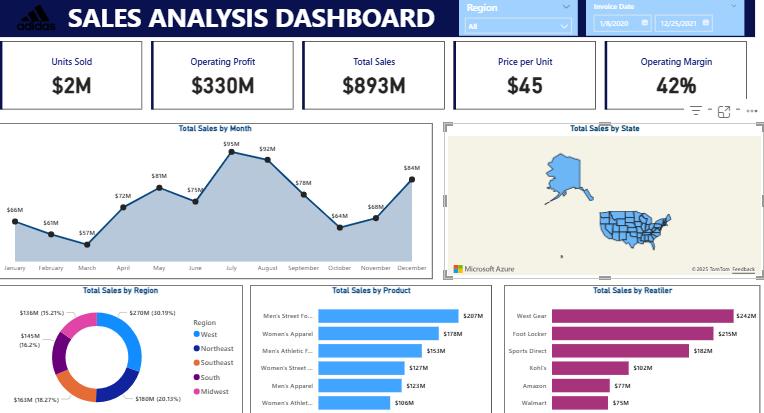

The dashboard page shown, as its layout file describes it:
{"tool":"powerbi","page":{"name":"Page 1","canvas":[1280,720],"ordinal":0},"visuals":[{"type":"shape","box":[0,0,1265,70],"z":0},{"type":"textbox","box":[113.8,0,526.2,70],"z":1000},{"type":"cardVisual","fields":{"Data":["Sum(Data Sales Adidas.Units Sold)","Sum(Data Sales Adidas.Operating Profit)","Sum(Data Sales Adidas.Total Sales)","Avg(Data Sales Adidas.Price per Unit)","Avg(Data Sales Adidas.Operating Margin)"]},"box":[0,70,1255.7,124.3],"z":2000},{"type":"areaChart","title":"Total Sales by Month","fields":{"Category":["Data Sales Adidas.Invoice Date.Variation.Date Hierarchy.Month"],"Y":["Sum(Data Sales Adidas.Total Sales)"]},"box":[0,211.4,725.7,260],"z":3000},{"type":"filledMap","title":"Total Sales by State","fields":{"Category":["Data Sales Adidas.State"]},"box":[745.7,211.4,534.3,260],"z":4000},{"type":"donutChart","title":"Total Sales by Region","fields":{"Category":["Data Sales Adidas.Region"],"Y":["Sum(Data Sales Adidas.Total Sales)"]},"box":[0,481.7,410,226],"z":5000},{"type":"barChart","title":"Total Sales by Product","fields":{"Y":["Sum(Data Sales Adidas.Total Sales)"],"Category":["Data Sales Adidas.Product"]},"box":[422,482,403,226],"z":6000},{"type":"barChart","title":"Total Sales by Reatiler","fields":{"Y":["Sum(Data Sales Adidas.Total Sales)"],"Category":["Data Sales Adidas.Retailer"]},"box":[845,482,427,226],"z":7000},{"type":"slicer","fields":{"Values":["Data Sales Adidas.Region"]},"box":[770,3.3,197.8,63.3],"z":8000},{"type":"slicer","fields":{"Values":["Data Sales Adidas.Invoice Date"]},"box":[981.1,3.3,264.4,63.3],"z":9000},{"type":"image","box":[28.8,0,73.8,70],"z":10000}]}

Visuals, with their boxes on the page's 1280x720 design canvas (x1, y1, x2, y2). These are canvas units, not pixel positions in the 764x413 screenshot, which may show the page scaled, cropped or inside an application window:
shape: left=0, top=0, right=1265, bottom=70
textbox: left=114, top=0, right=640, bottom=70
cardVisual - Sum(Data Sales Adidas.Units Sold) x Sum(Data Sales Adidas.Operating Profit): left=0, top=70, right=1256, bottom=194
"Total Sales by Month" areaChart: left=0, top=211, right=726, bottom=471
"Total Sales by State" filledMap: left=746, top=211, right=1280, bottom=471
"Total Sales by Region" donutChart: left=0, top=482, right=410, bottom=708
"Total Sales by Product" barChart: left=422, top=482, right=825, bottom=708
"Total Sales by Reatiler" barChart: left=845, top=482, right=1272, bottom=708
slicer - Data Sales Adidas.Region: left=770, top=3, right=968, bottom=67
slicer - Data Sales Adidas.Invoice Date: left=981, top=3, right=1246, bottom=67
image: left=29, top=0, right=103, bottom=70
